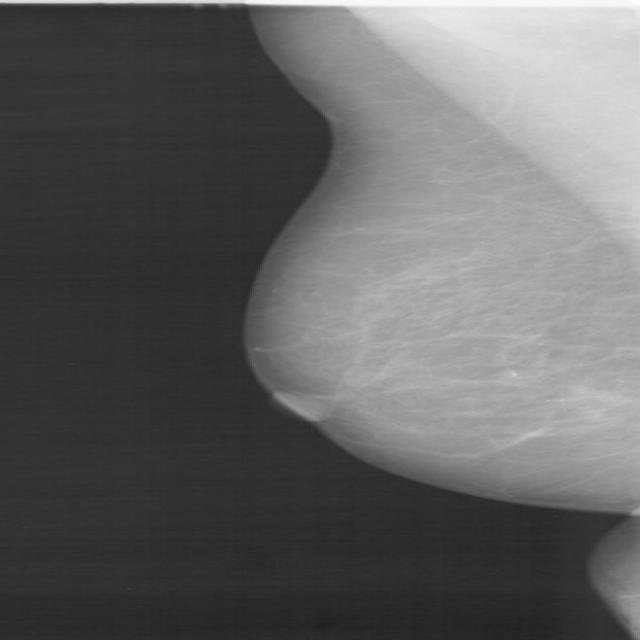tumour: (561, 384, 626, 416)
